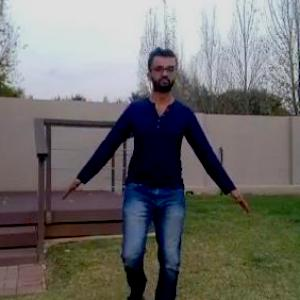land: (48, 38, 258, 299)
